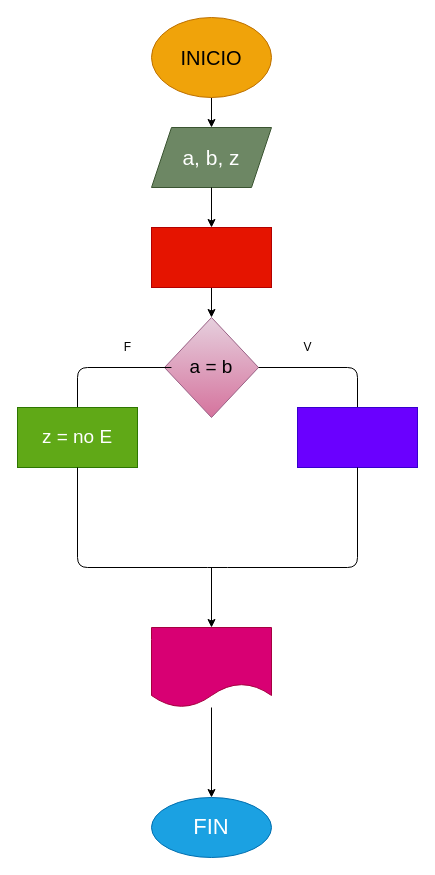
This 435x875 diagram has some shape labels left out. Here are the shapes that lost their labels. From the top down, the centre of each, then its label:
At point 211,257: "a = z%10 b = (z%100)%10".
At point 357,437: "z = E".
At point 211,667: "a, b".
